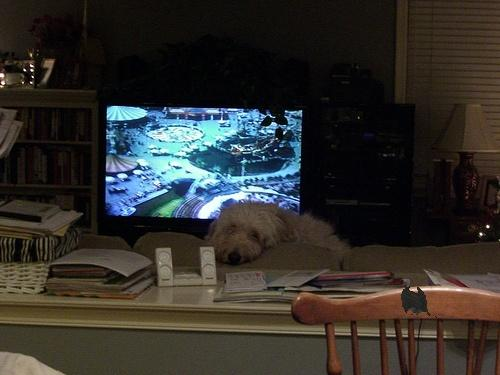tampered: (401, 280, 455, 318)
